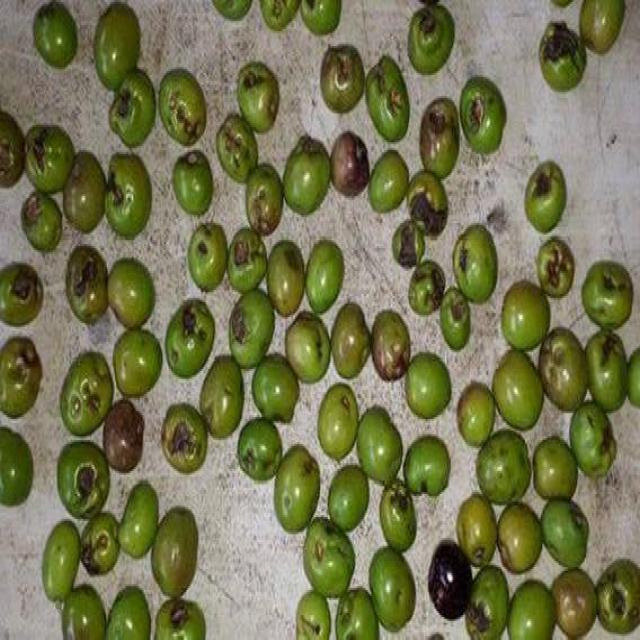Anthracnose: (58, 442, 108, 521), (304, 517, 354, 596), (275, 444, 319, 532), (61, 352, 108, 434), (540, 328, 586, 409), (476, 431, 528, 502), (284, 134, 330, 213), (104, 154, 148, 236), (158, 69, 205, 144), (366, 56, 407, 140), (166, 300, 210, 377), (230, 290, 274, 367), (26, 125, 74, 194), (66, 246, 108, 323), (466, 565, 510, 638), (317, 382, 358, 460), (409, 2, 454, 73), (582, 262, 630, 328), (110, 69, 151, 146), (452, 225, 493, 302), (0, 338, 42, 413), (200, 354, 238, 436), (541, 21, 586, 90), (596, 560, 639, 632), (161, 403, 205, 472), (285, 312, 329, 381), (570, 402, 613, 472), (428, 542, 468, 617), (586, 331, 623, 412), (541, 498, 584, 567), (461, 77, 500, 152), (321, 46, 363, 114), (419, 100, 456, 177), (525, 162, 566, 230), (34, 0, 76, 65), (456, 494, 494, 565), (404, 436, 450, 494), (238, 419, 282, 479), (238, 61, 275, 130), (0, 263, 41, 325), (378, 480, 414, 550), (267, 240, 300, 315), (188, 223, 226, 288), (408, 171, 446, 236), (246, 163, 280, 234), (228, 227, 266, 290), (536, 237, 574, 300), (172, 152, 210, 215), (81, 511, 116, 579), (216, 114, 252, 180), (21, 190, 60, 250), (332, 131, 368, 196), (372, 310, 406, 378), (336, 588, 378, 638), (409, 260, 444, 314), (156, 602, 206, 638), (439, 286, 466, 350), (296, 596, 330, 638), (392, 221, 424, 265)
